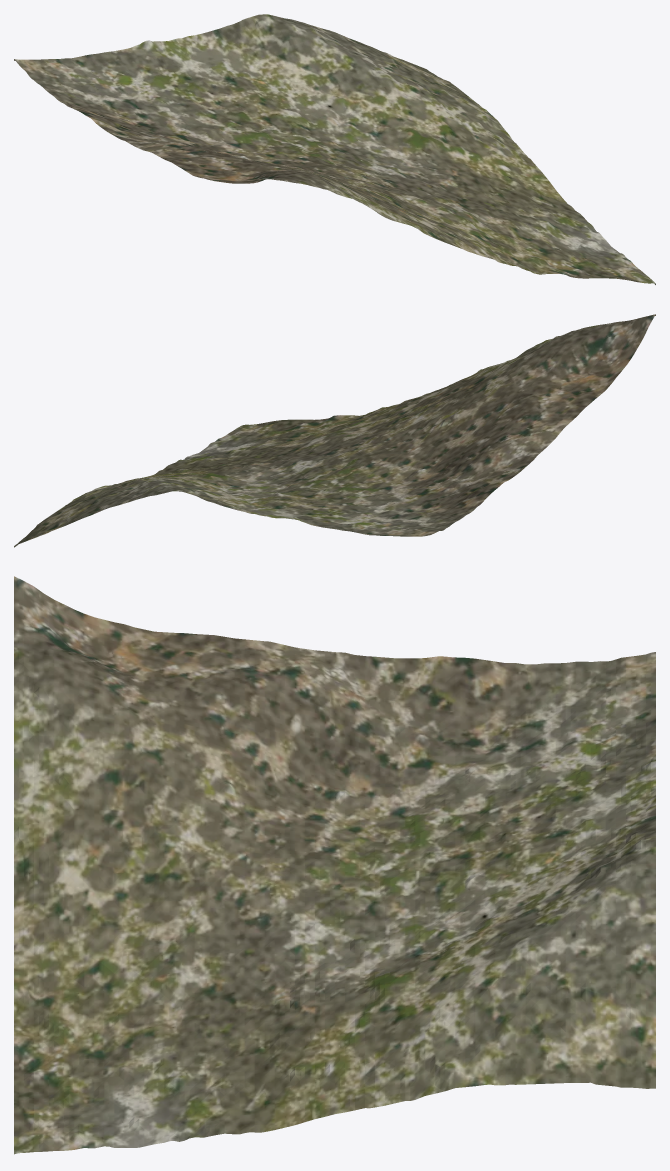
3 renders of one model, top to bottom at view 1: azimuth 30°, elevation 25°; view 2: azimuth 150°, elevation 25°; view 3: azimuth 270°, elevation 25°, orthographic. The views are drawn at different scales.
Size of the model in its own units: 250 by 124 by 241.
1 material, 1 textured.
